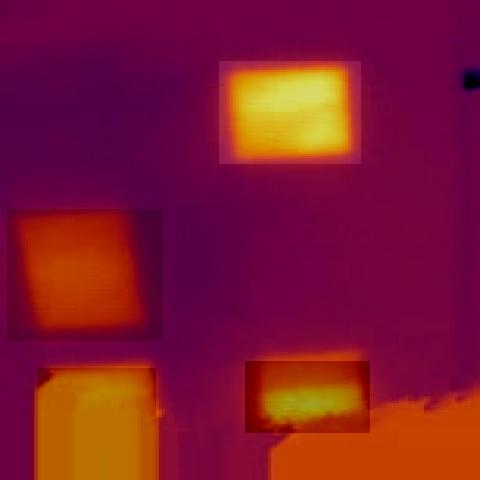fault: (7, 209, 163, 341), (220, 61, 362, 164), (37, 368, 156, 480), (245, 361, 370, 433)
